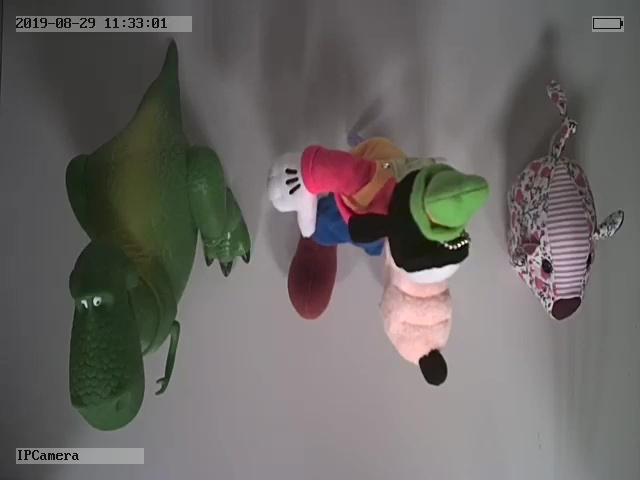goofy: (268, 136, 492, 388)
pig: (504, 78, 627, 320)
rex: (61, 37, 252, 432)
